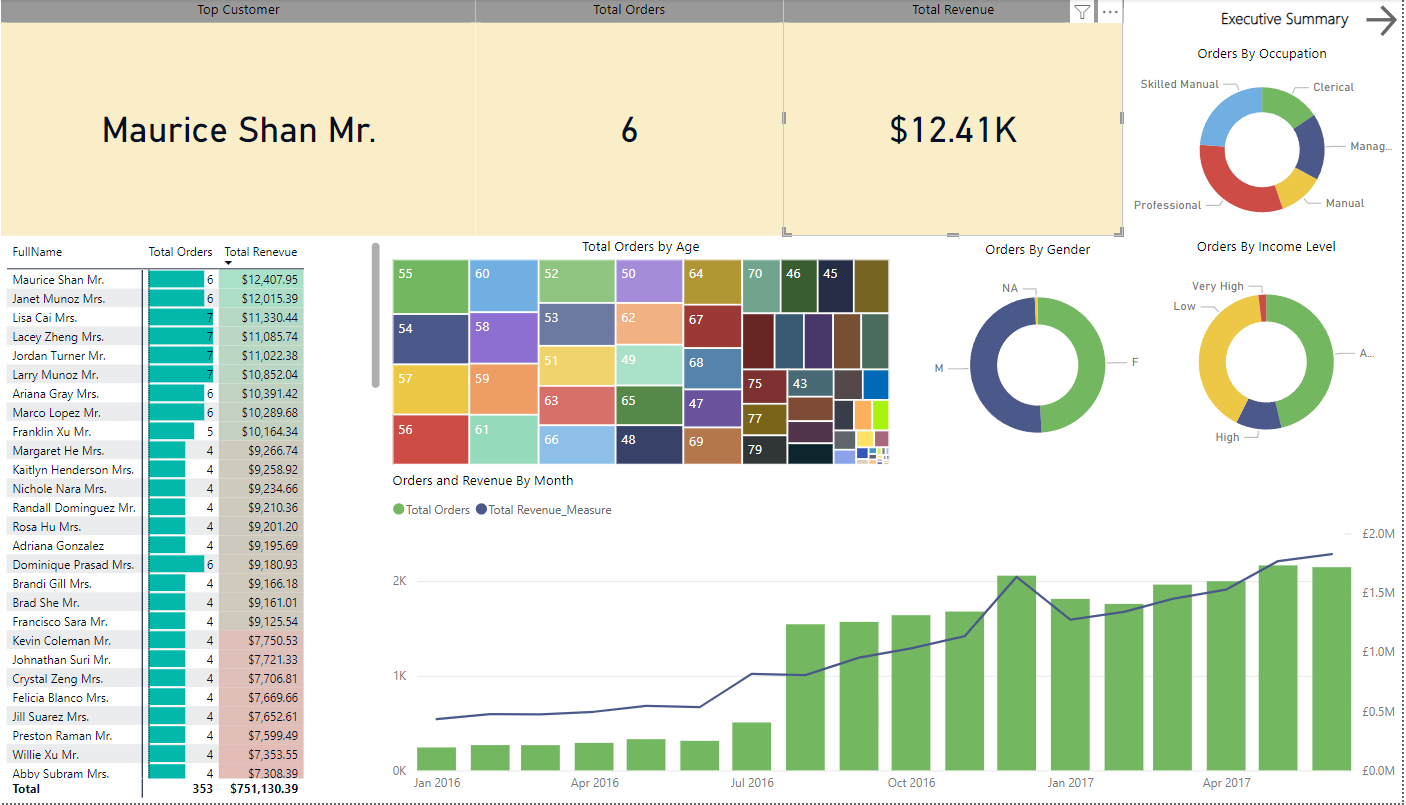

This screenshot's page, from the dashboard's own definition file:
{"tool":"powerbi","page":{"name":"Customer Detail","canvas":[1280,720],"ordinal":2},"visuals":[{"type":"pivotTable","fields":{"Rows":["AW_Customer_lookup.FullName"],"Values":["AW_Sales.Total Orders","AW_Sales.Total Renevue"]},"box":[26.3,212,345.3,507.7],"z":0},{"type":"donutChart","title":"Orders By Gender","fields":{"Y":["AW_Sales.Total Orders"],"Series":["AW_Customer_lookup.Gender"]},"box":[608.9,212,205.2,210.1],"z":1000},{"type":"donutChart","title":"Orders By Income Level","fields":{"Y":["AW_Sales.Total Orders"],"Series":["AW_Customer_lookup.IncomeLevel"]},"box":[825.8,212,205.2,210.1],"z":2000},{"type":"donutChart","title":"Orders By Occupation","fields":{"Y":["AW_Sales.Total Orders"],"Series":["AW_Customer_lookup.Occupation"]},"box":[1031,212,249,210.1],"z":3000},{"type":"lineClusteredColumnComboChart","title":"Orders and Revenue By Month","fields":{"Y":["AW_Sales.Total Orders"],"Y2":["AW_Sales.Total Revenue_Measure"],"Category":["AW_Calendar_Lookup.Start of Month"]},"box":[371.6,422.1,908.4,297.6],"z":4000},{"type":"treemap","title":"Total Orders by Age","fields":{"Group":["AW_Customer_lookup.Curent Age"],"Values":["AW_Sales.Total Orders"]},"box":[371.6,212,237.3,210.1],"z":5000},{"type":"card","title":"Top Customer","fields":{"Values":["Min(AW_Customer_lookup.FullName)"]},"box":[26.3,0,305.4,212],"z":6000},{"type":"card","title":"Total Orders","fields":{"Values":["AW_Sales.Total Orders"]},"box":[331.7,0,305.4,212],"z":6001},{"type":"card","title":"Total Revenue","fields":{"Values":["AW_Sales.Total Renevue"]},"box":[637.1,0,305.4,212],"z":6002},{"type":"textbox","box":[942.5,175.1,249,37],"z":6003},{"type":"actionButton","box":[1155.5,175.1,100.2,39.9],"z":6004}]}

Visuals, with their boxes in screenshot pixels (x1, y1, x2, y2), scaled from the page's 1280x720 canvas onto the 1406x805 screenshot:
pivotTable - AW_Customer_lookup.FullName x AW_Sales.Total Orders: 29 237 408 804
"Orders By Gender" donutChart: 669 237 894 472
"Orders By Income Level" donutChart: 907 237 1132 472
"Orders By Occupation" donutChart: 1132 237 1405 472
"Orders and Revenue By Month" lineClusteredColumnComboChart: 408 472 1405 804
"Total Orders by Age" treemap: 408 237 669 472
"Top Customer" card: 29 0 364 237
"Total Orders" card: 364 0 700 237
"Total Revenue" card: 700 0 1035 237
textbox: 1035 196 1309 237
actionButton: 1269 196 1379 240
